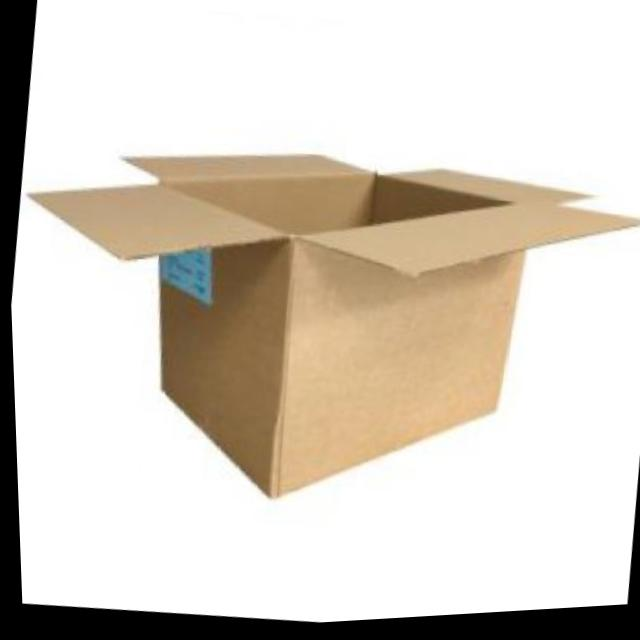box: (2, 46, 640, 597)
